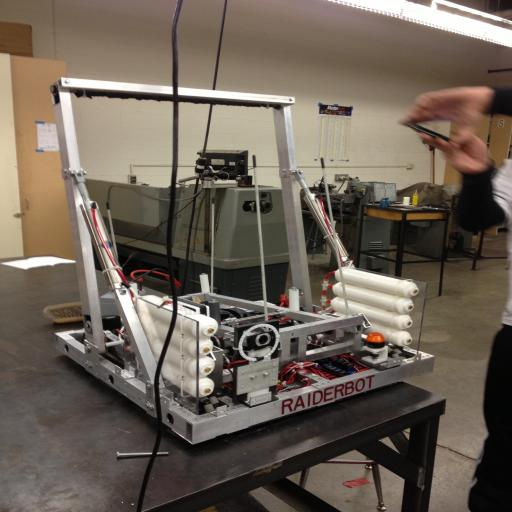robot: (41, 72, 437, 447)
